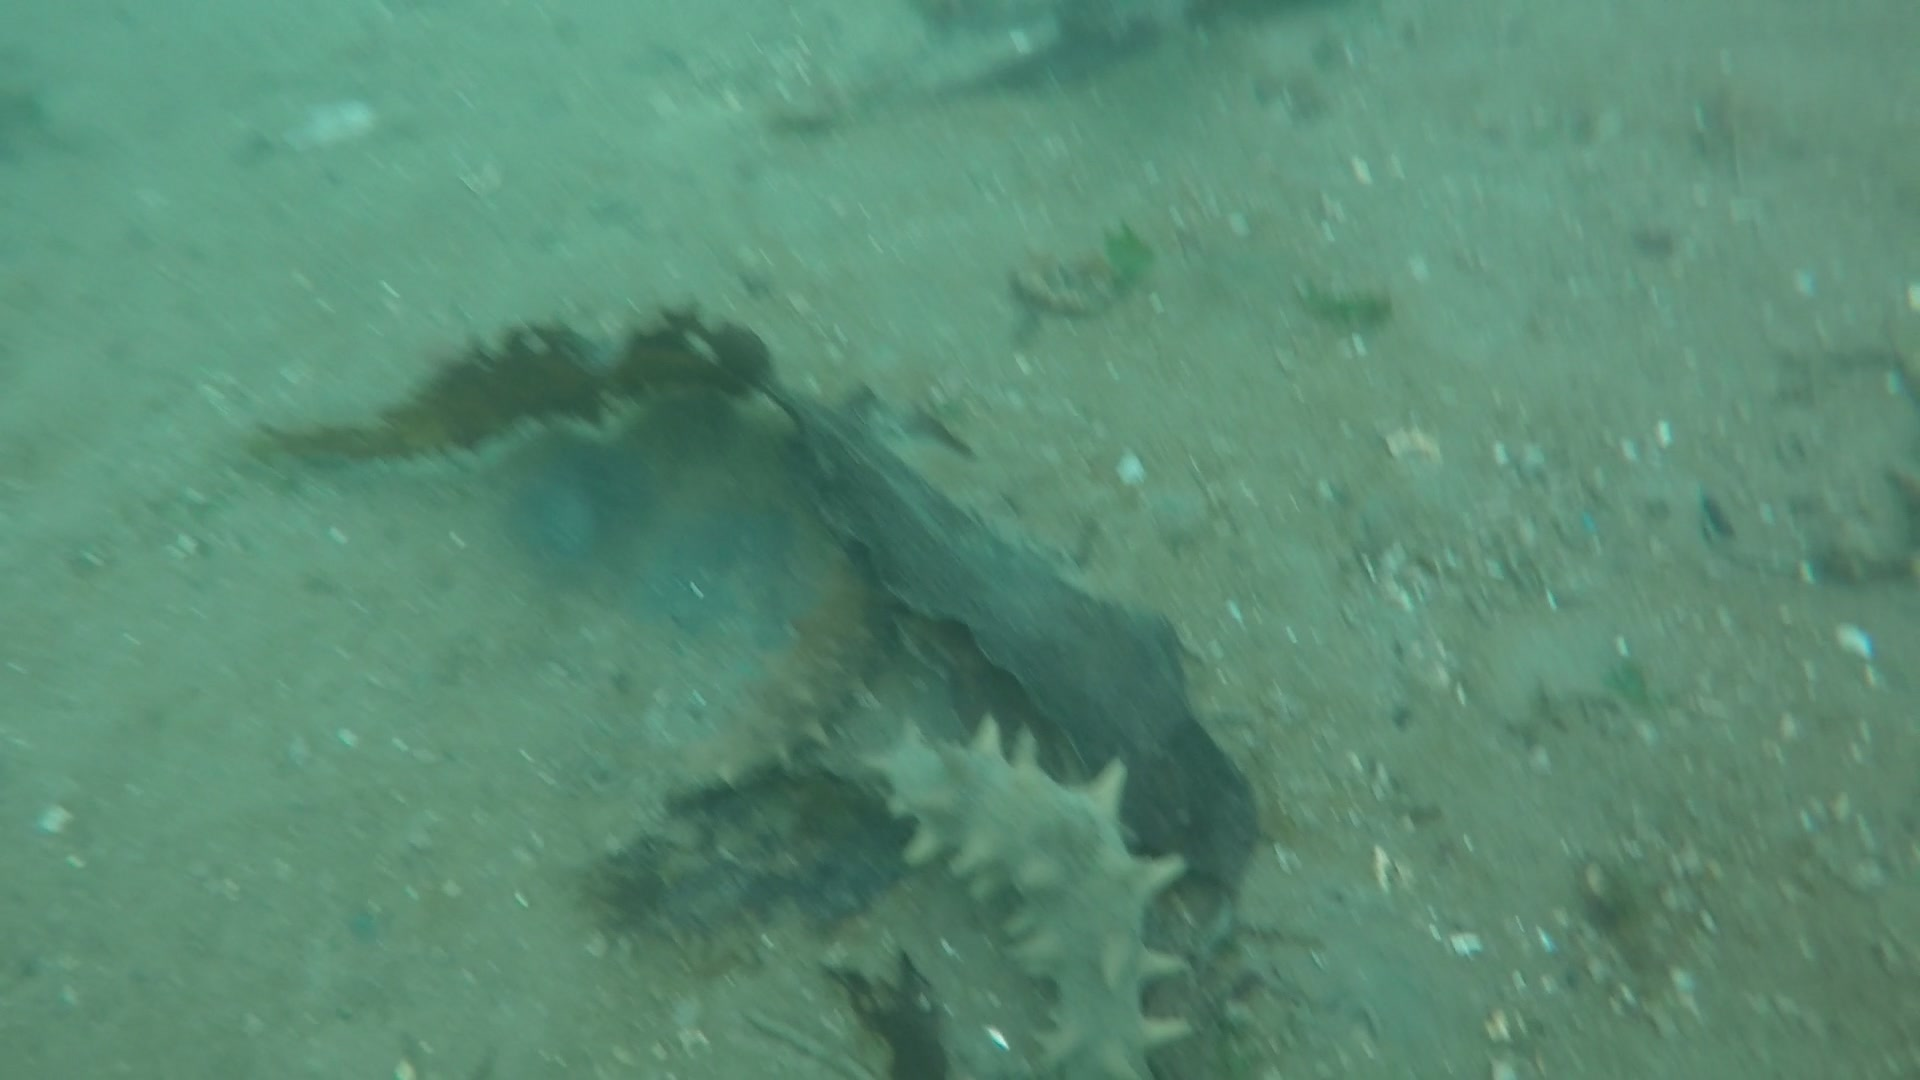holothurian: (872, 716, 1176, 1076), (669, 549, 872, 804)
starfish: (647, 506, 818, 694)
